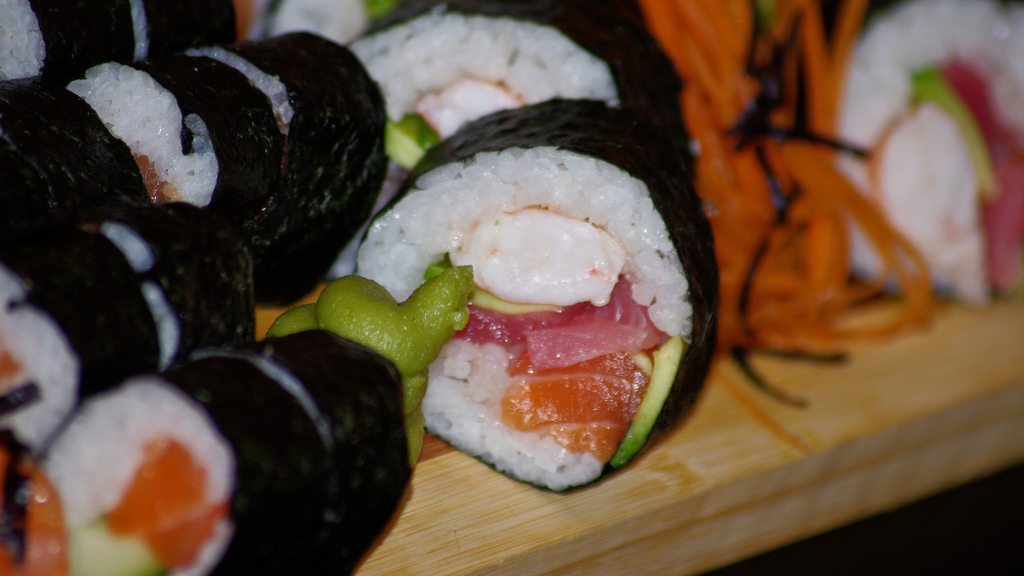sushi: (0, 0, 720, 575), (349, 87, 727, 489), (827, 0, 1023, 300)
